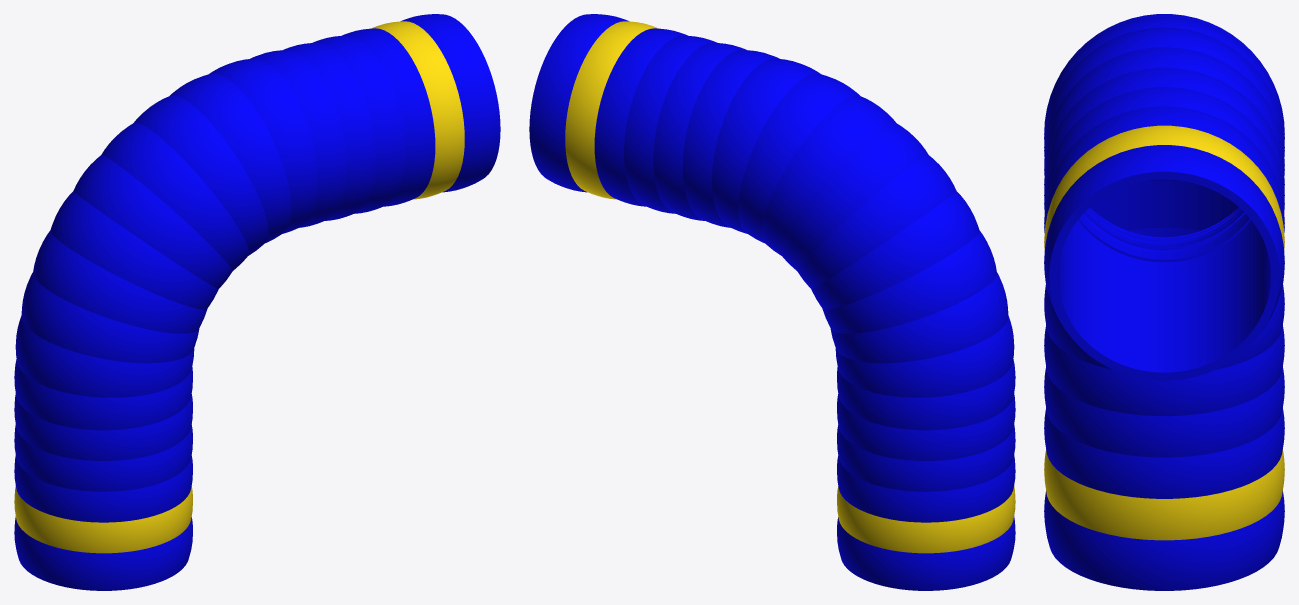
File: Tubo Flexivel com curva.glb
The picture shows the model from 3 angles, left to right: view 1: azimuth 30°, elevation 25°; view 2: azimuth 150°, elevation 25°; view 3: azimuth 270°, elevation 25°; orthographic projection. The views are drawn at different scales.
Visible parts, largest first — view 1: Part 1; view 2: Part 1; view 3: Part 1.
Part boxes in pixels (bbox=[...]): Part 1: bbox=[14, 14, 500, 590]; Part 1: bbox=[529, 14, 1015, 590]; Part 1: bbox=[1044, 14, 1284, 590].
Bounding box in the file's own units: 0.1949 × 0.1949 × 0.07.
